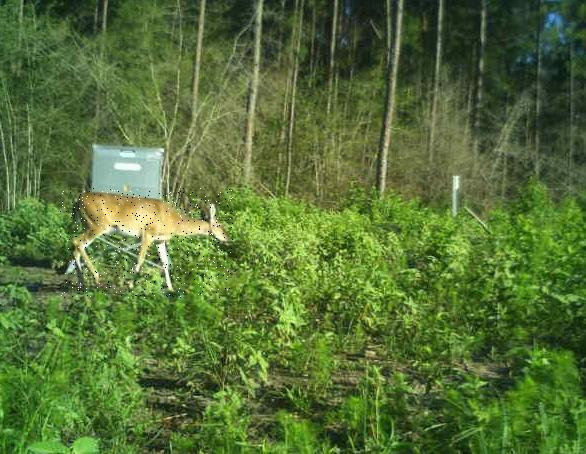Deer: (60, 189, 233, 299)
